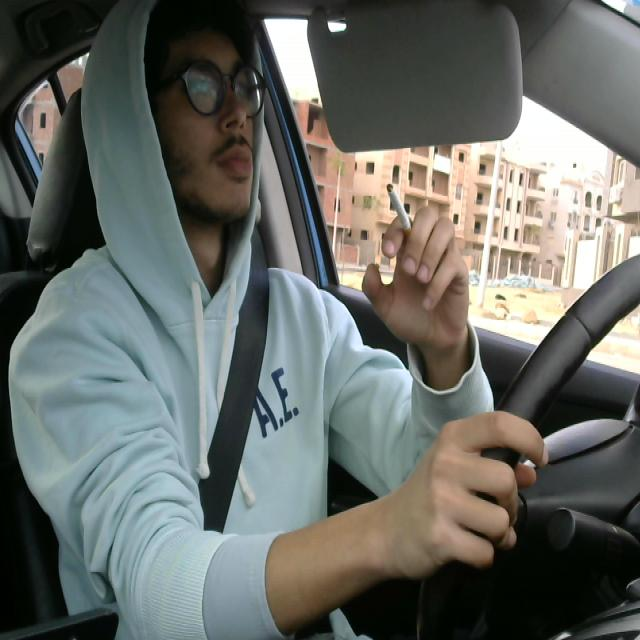smoking: (384, 180, 417, 244)
